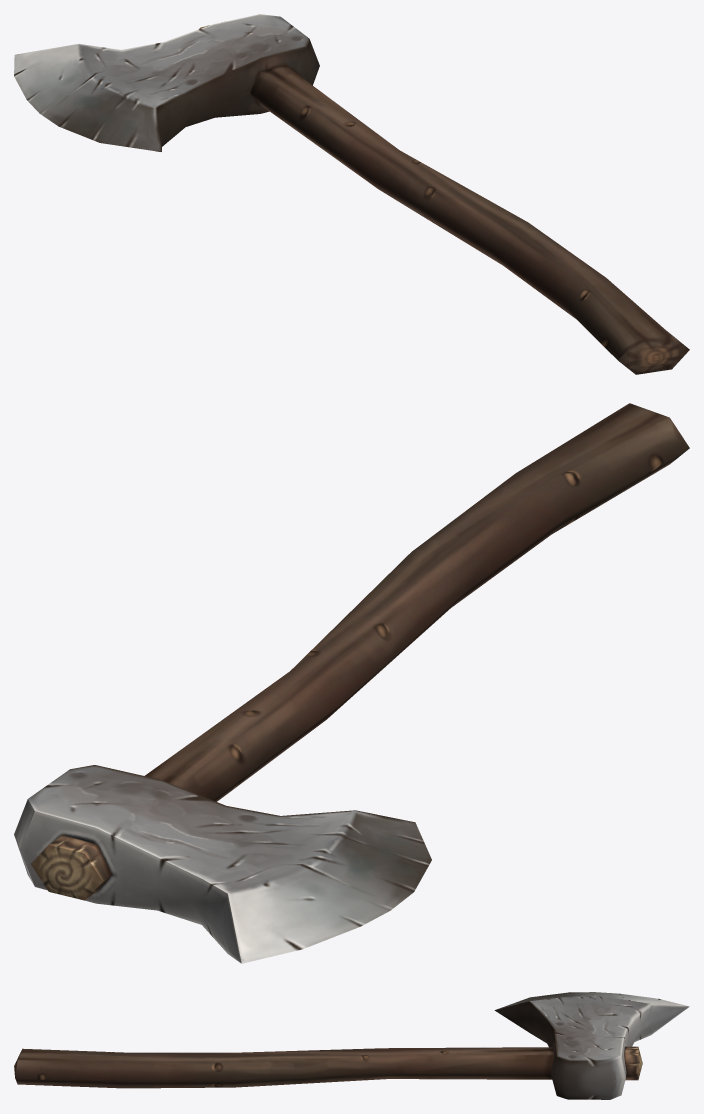
The model's file is Axe_04.fbx.
3 views of the same model, one above another, from view 1: azimuth 30°, elevation 25°; view 2: azimuth 150°, elevation 25°; view 3: azimuth 270°, elevation 25° (orthographic). The views are drawn at different scales.
Visible parts, largest first — view 1: Axe_04_El1, Axe_04_El2; view 2: Axe_04_El1, Axe_04_El2; view 3: Axe_04_El2, Axe_04_El1.
Part boxes in pixels (bbox=[...]): Axe_04_El1: bbox=[14, 14, 319, 151]; Axe_04_El2: bbox=[199, 21, 689, 374]; Axe_04_El1: bbox=[14, 765, 431, 963]; Axe_04_El2: bbox=[31, 403, 689, 900]; Axe_04_El2: bbox=[14, 1046, 642, 1088]; Axe_04_El1: bbox=[494, 992, 689, 1099].
Size of the model in its own units: 0.3376 by 0.0678 by 1.06.
